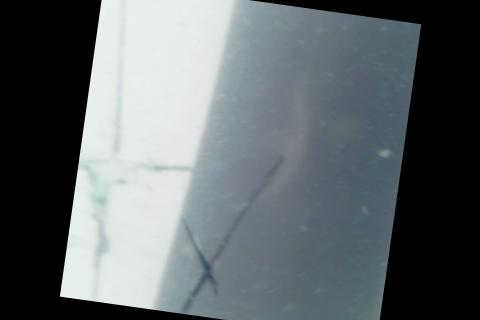keretakan: (160, 138, 287, 320)
